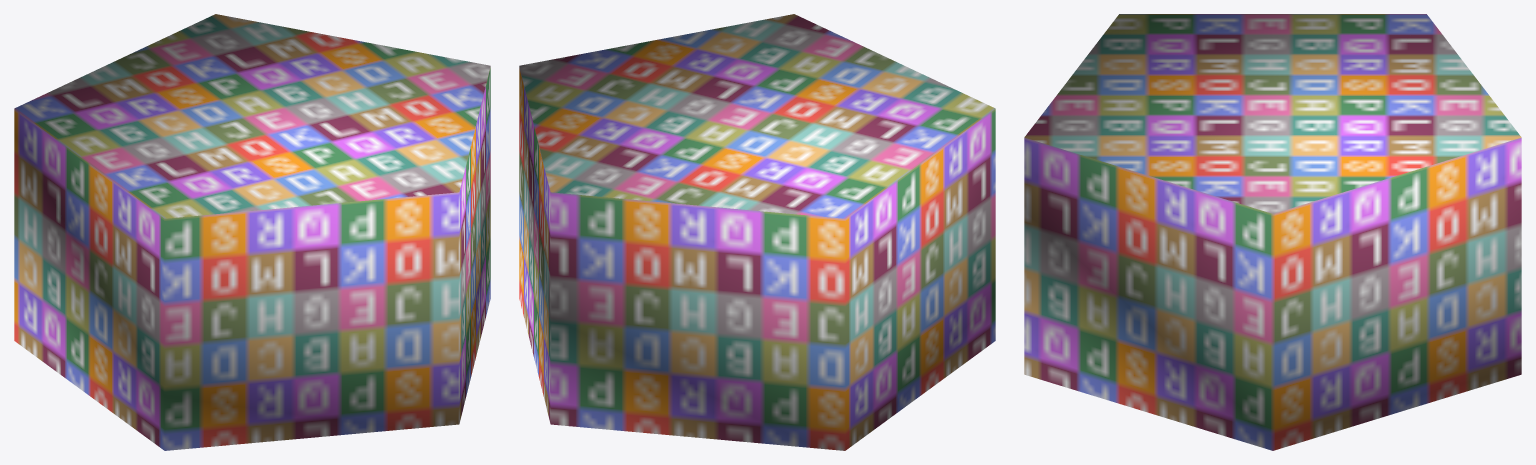
The model's file is pentagon.dae.
3 renders of one model, left to right at view 1: azimuth 30°, elevation 25°; view 2: azimuth 150°, elevation 25°; view 3: azimuth 270°, elevation 25°, orthographic. The views are drawn at different scales.
Visible parts, largest first — view 1: N-Gon1-0; view 2: N-Gon1-0; view 3: N-Gon1-0.
Part boxes in pixels (x1=…): N-Gon1-0: x1=14, y1=14, x2=490, y2=450; N-Gon1-0: x1=519, y1=14, x2=995, y2=450; N-Gon1-0: x1=1024, y1=14, x2=1521, y2=450.
Bounding box in the file's own units: 1.81 × 1 × 1.9.
